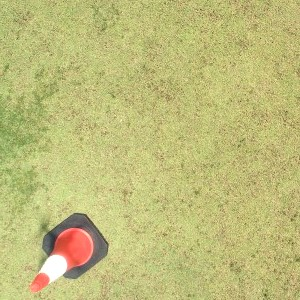traffic cone: (29, 213, 110, 292)
